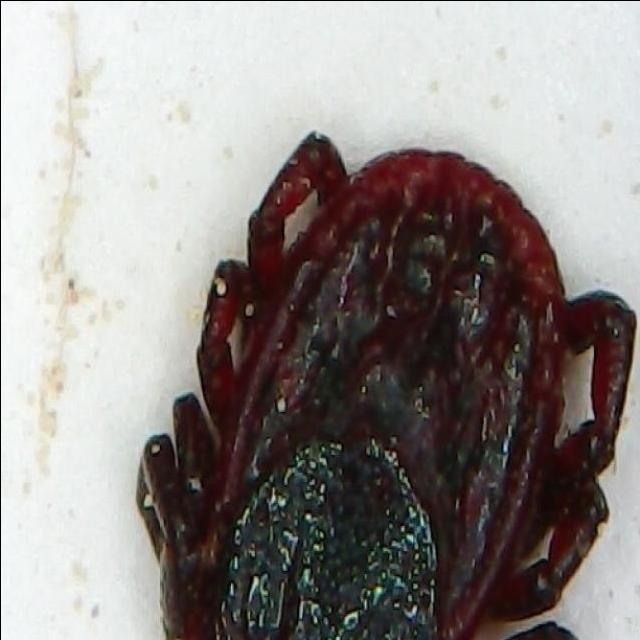Rhipicephalus Sanguineus-F: (135, 131, 637, 640)
